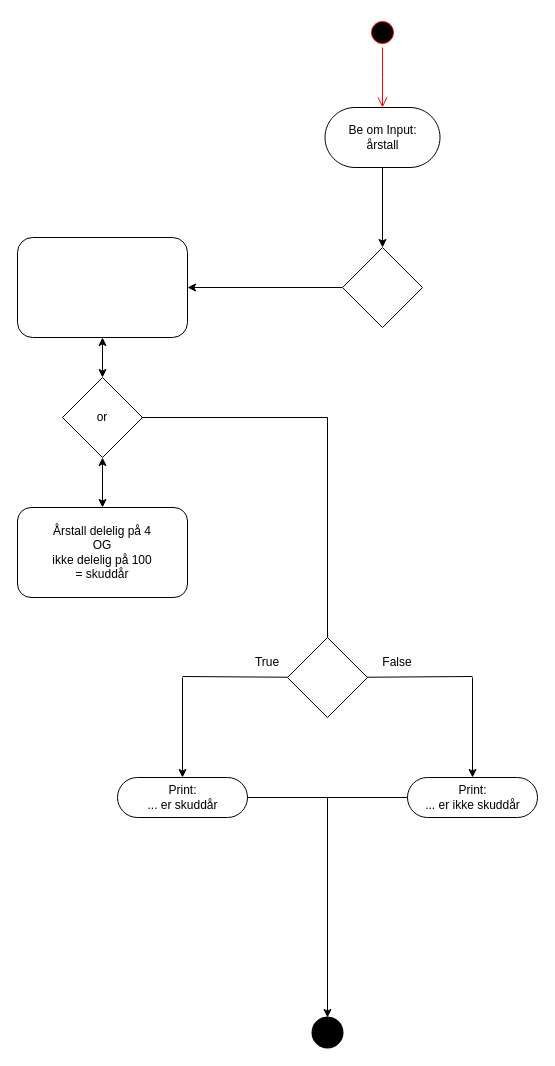
The diagram is 555 pixels wide and 1066 high, and some of its shapes have lost their labels. Here are the shapes that lost their labels. From the top down, the box of each, then its label:
(16, 236, 188, 338): Årstall hundreår OG delelig på 400 = hundreårskuddår
(342, 246, 422, 328): if
